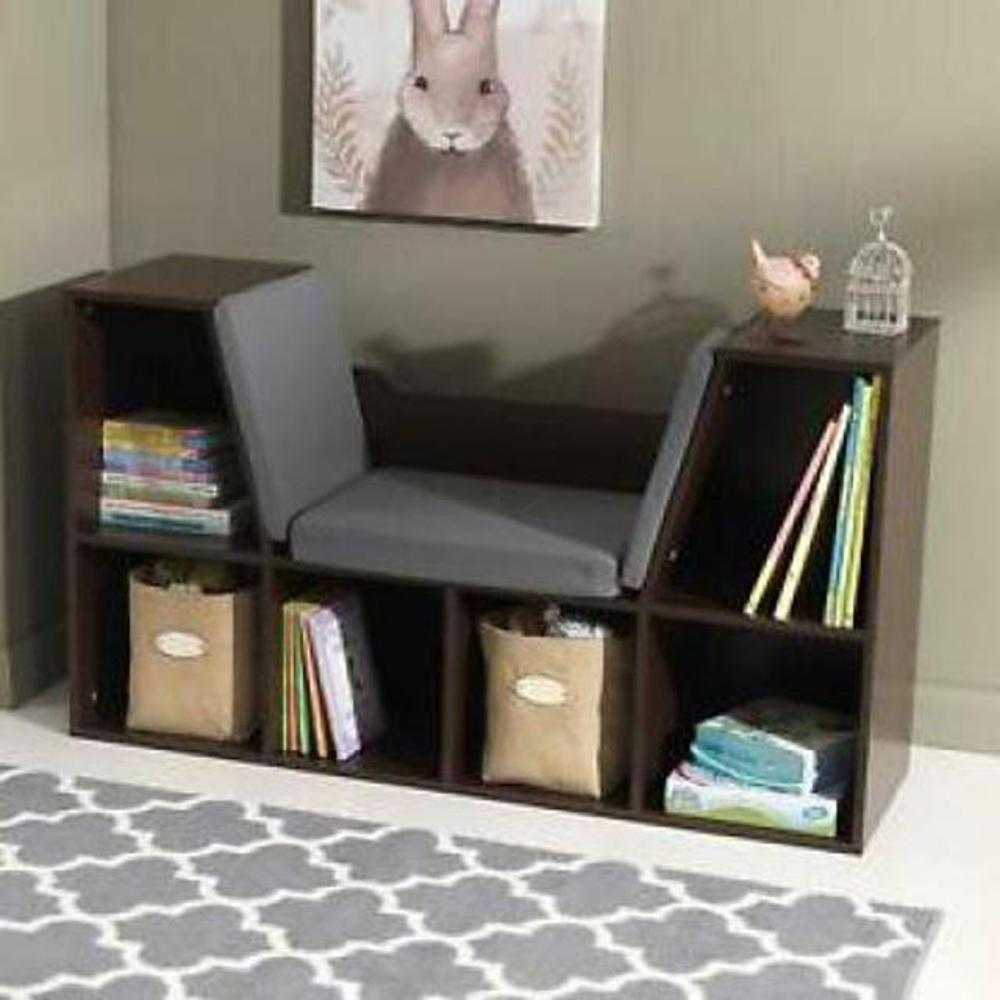lamp: (59, 249, 941, 864)
